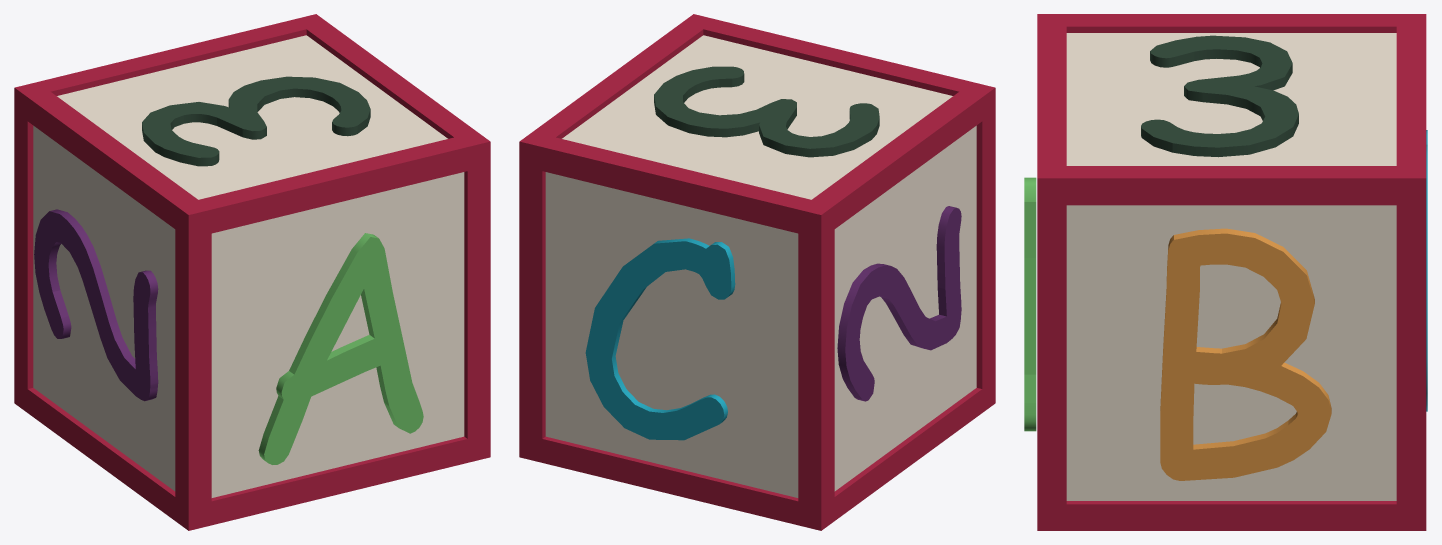
Rendered from NumBlock.FBX.
3 renders of one model, left to right at view 1: azimuth 30°, elevation 25°; view 2: azimuth 150°, elevation 25°; view 3: azimuth 270°, elevation 25°, orthographic. The views are drawn at different scales.
Visible parts, largest first — view 1: ABC-Block; view 2: ABC-Block; view 3: ABC-Block.
Part boxes in pixels (x1,y1,x2,y2): ABC-Block: [14, 14, 490, 530]; ABC-Block: [519, 14, 995, 530]; ABC-Block: [1024, 14, 1427, 530].
Size of the model in its own units: 99.46 by 101 by 101.
1 material, 1 textured.
